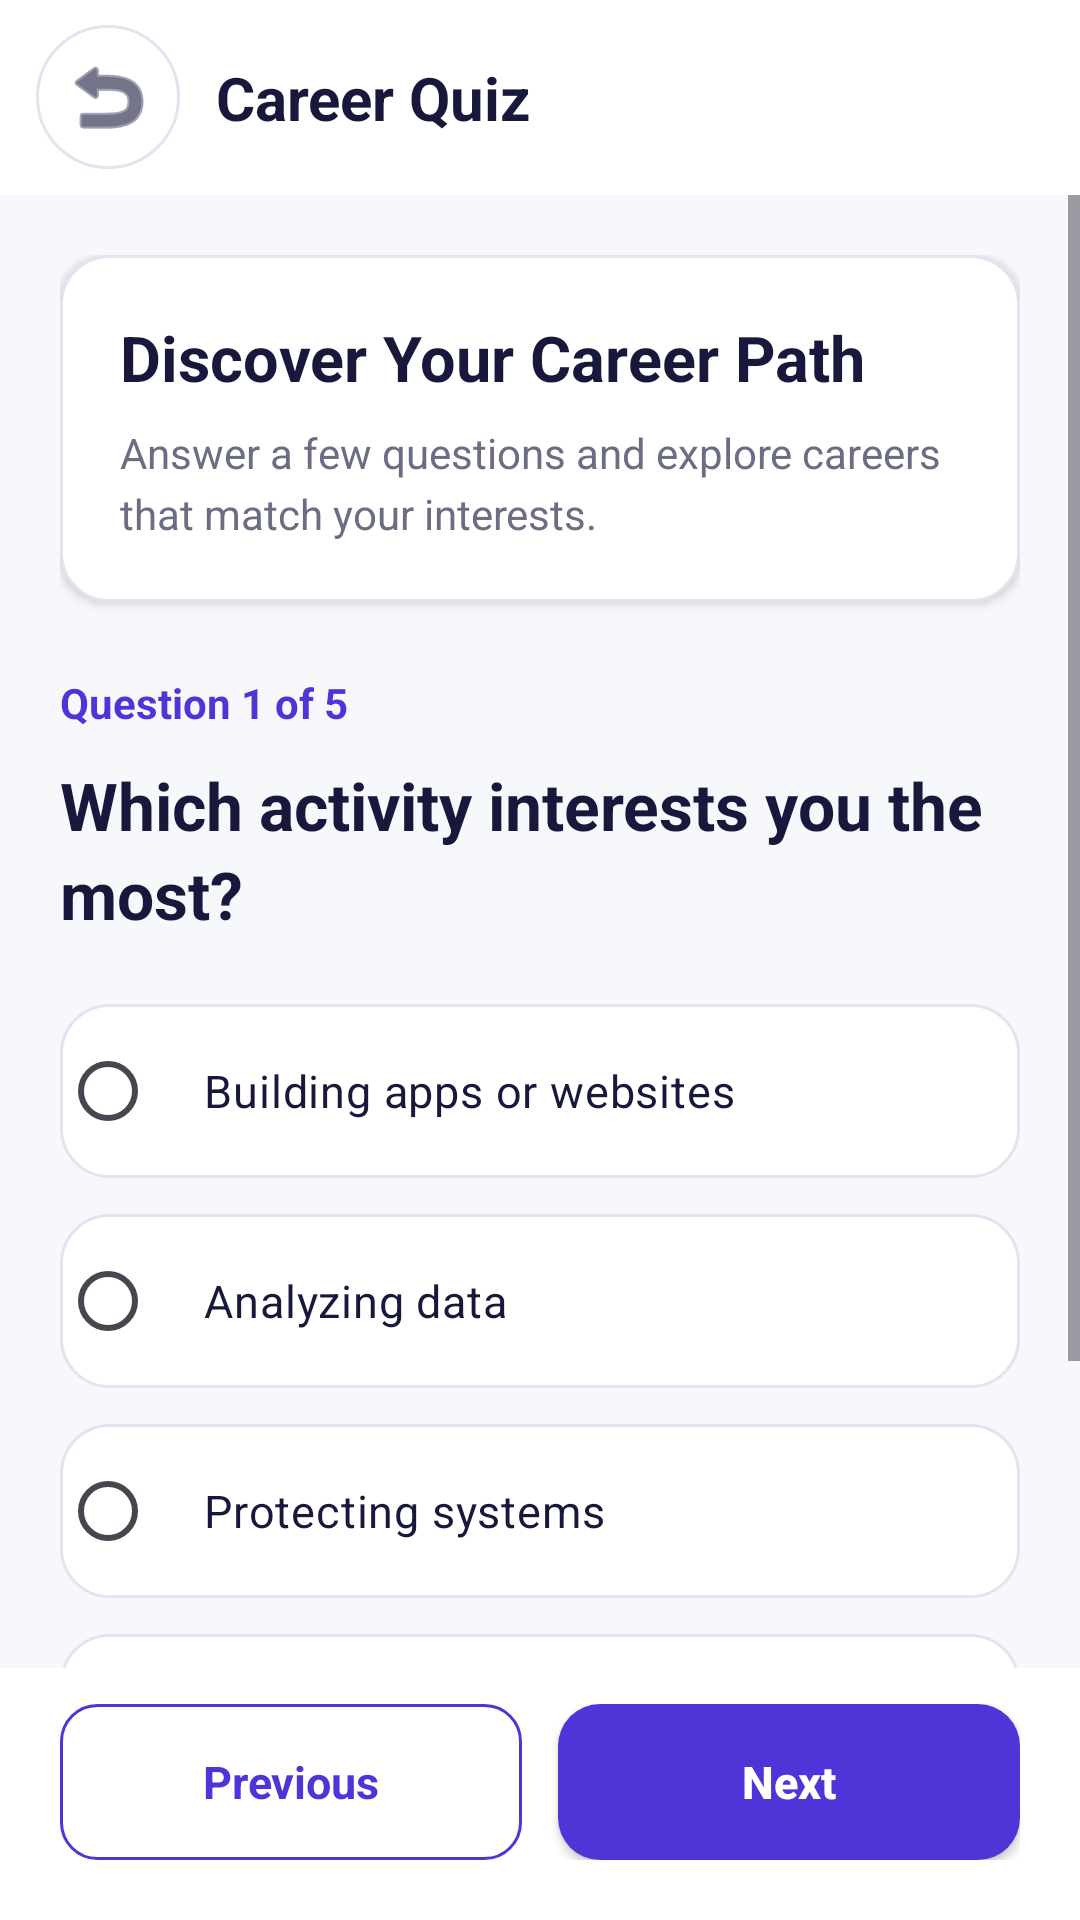

Icon bounding boxes for this 1080px×1920px phone screenshot, format (x1, y1, x2, y2):
Back: (36, 25, 180, 169)
